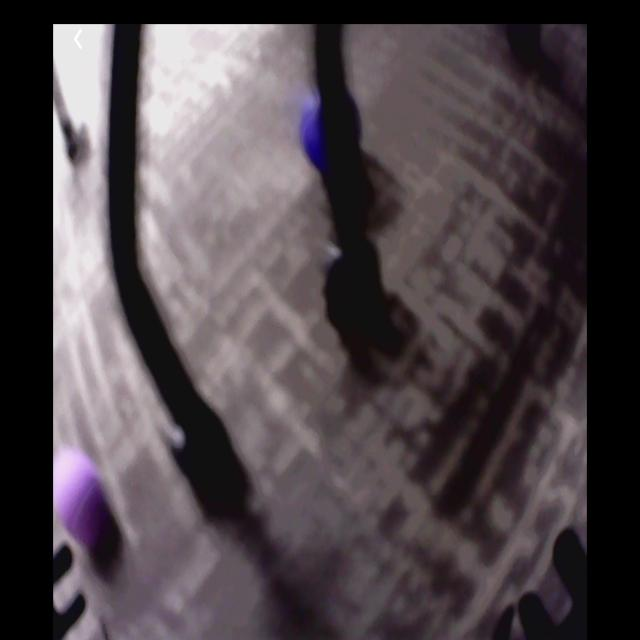ball: (302, 94, 362, 169), (54, 452, 105, 537)
